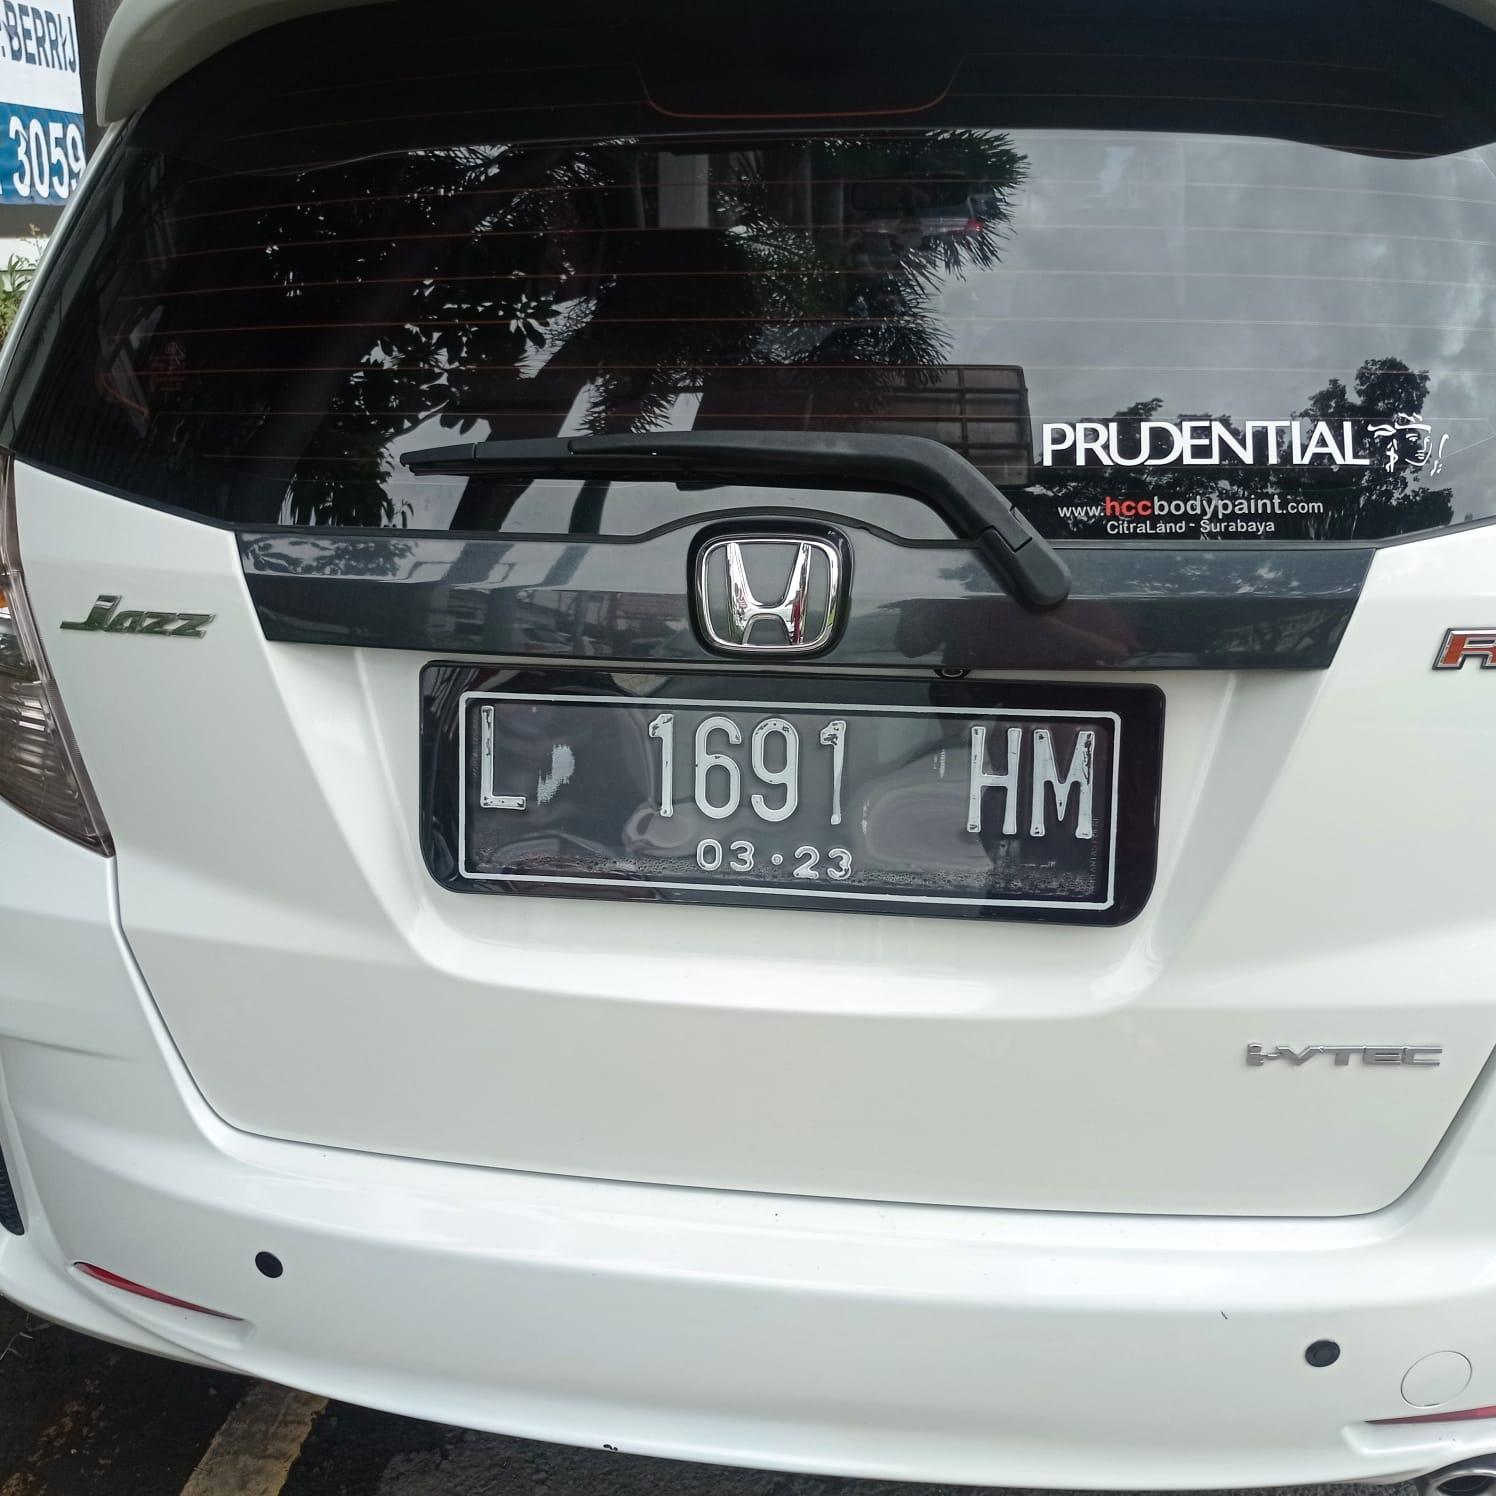plat: (423, 663, 1163, 923)
